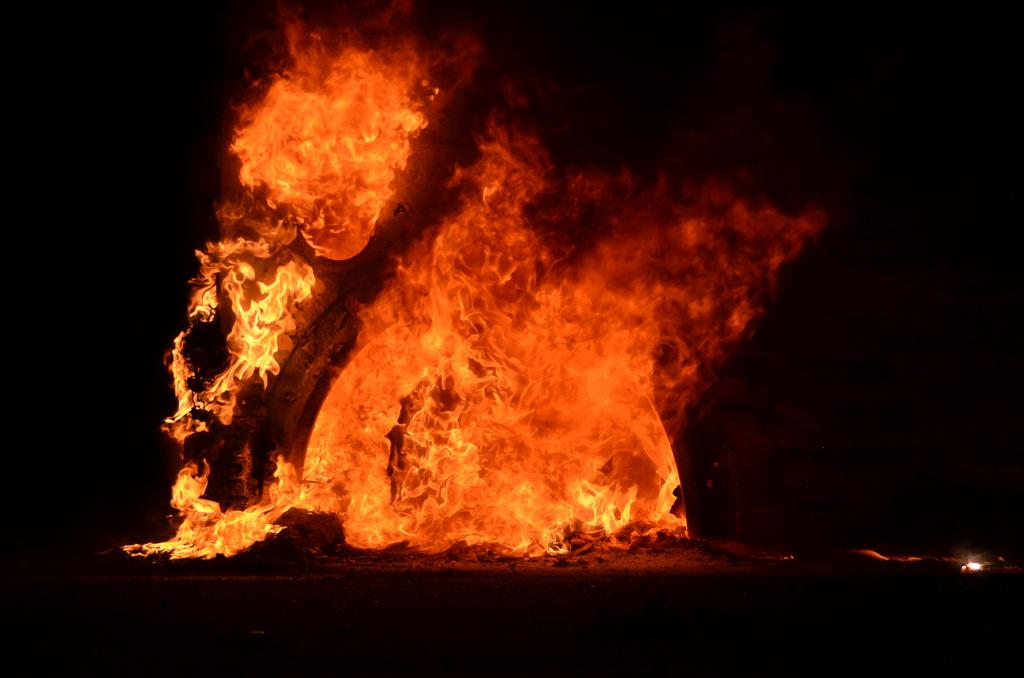fire: (407, 260, 655, 538), (253, 60, 412, 245), (182, 255, 317, 367)
